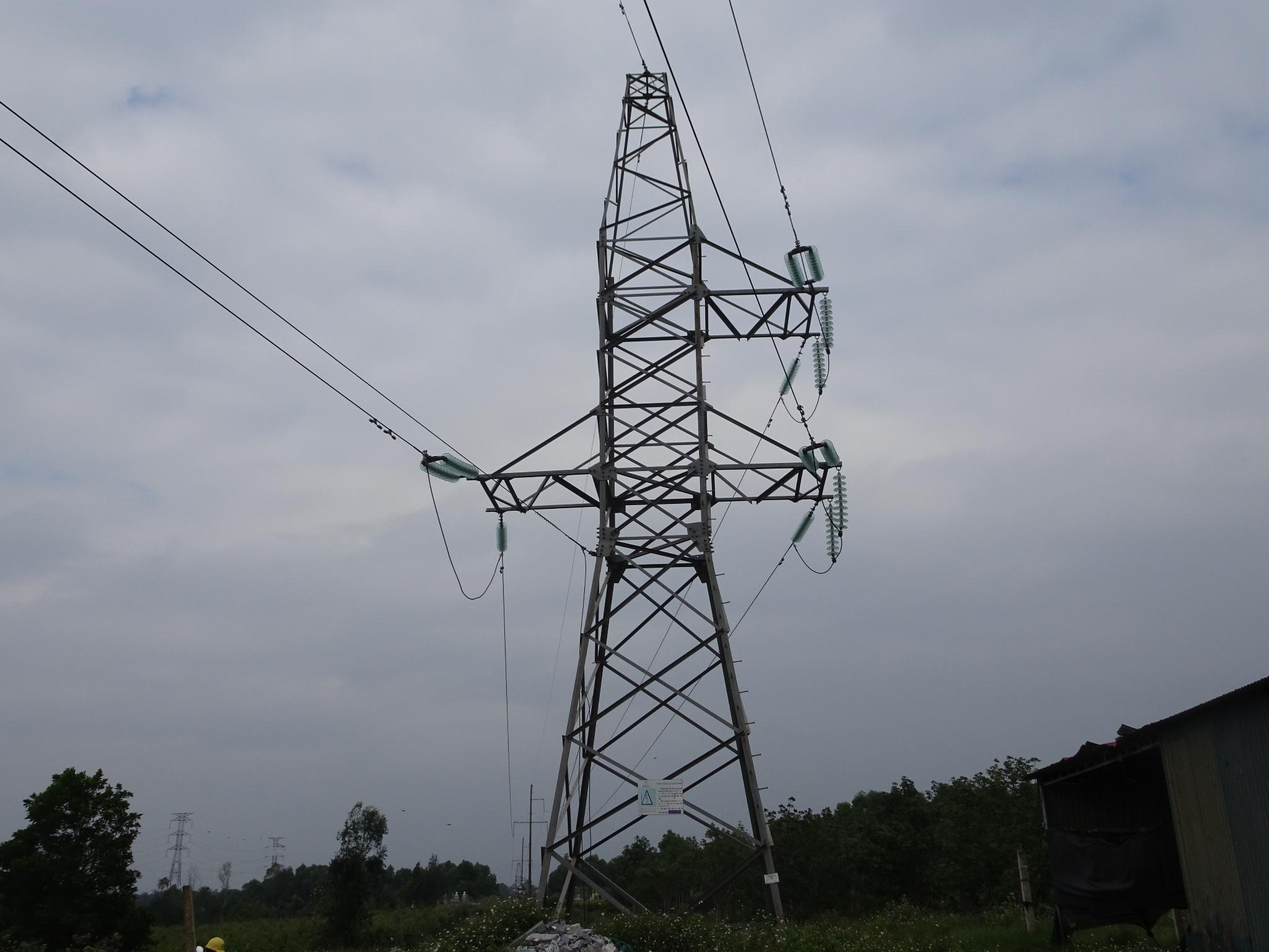tower: (470, 58, 852, 952)
